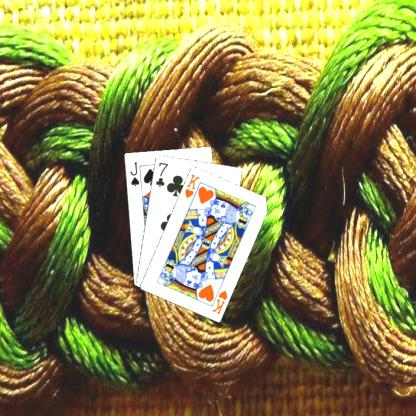7C: (153, 159, 170, 188)
JS: (127, 160, 140, 188)
KH: (209, 287, 229, 315), (182, 171, 201, 199)
